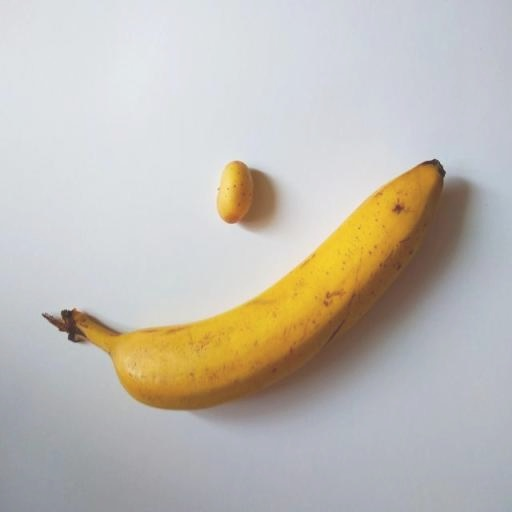fruit: (44, 160, 443, 408), (216, 161, 252, 223)
